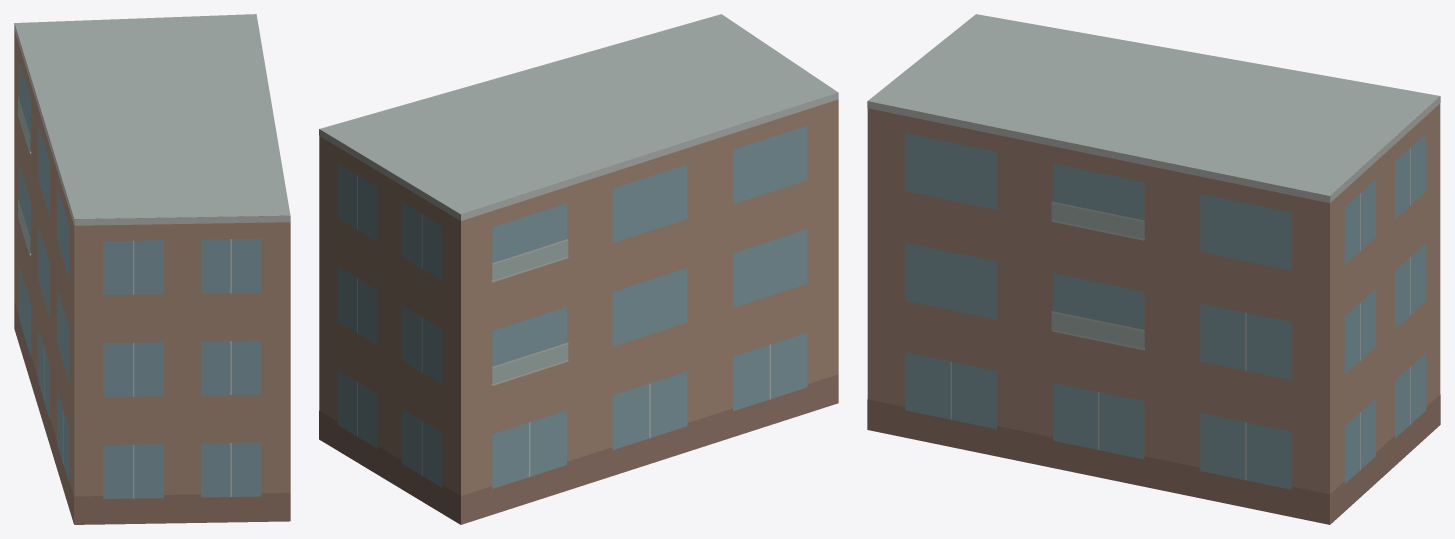
File: survey-upis-32846711.glb
The picture shows the model from 3 angles, left to right: view 1: azimuth 30°, elevation 25°; view 2: azimuth 150°, elevation 25°; view 3: azimuth 270°, elevation 25°; orthographic projection. The views are drawn at different scales.
Parts seen in each view (by area): view 1: survey-upis-32846711.tmp; view 2: survey-upis-32846711.tmp; view 3: survey-upis-32846711.tmp.
Part boxes in pixels (x1=…): survey-upis-32846711.tmp: x1=14, y1=14, x2=290, y2=524; survey-upis-32846711.tmp: x1=319, y1=14, x2=838, y2=524; survey-upis-32846711.tmp: x1=867, y1=14, x2=1440, y2=524.
Bounding box in the file's own units: 13.37 × 11.25 × 17.77.
